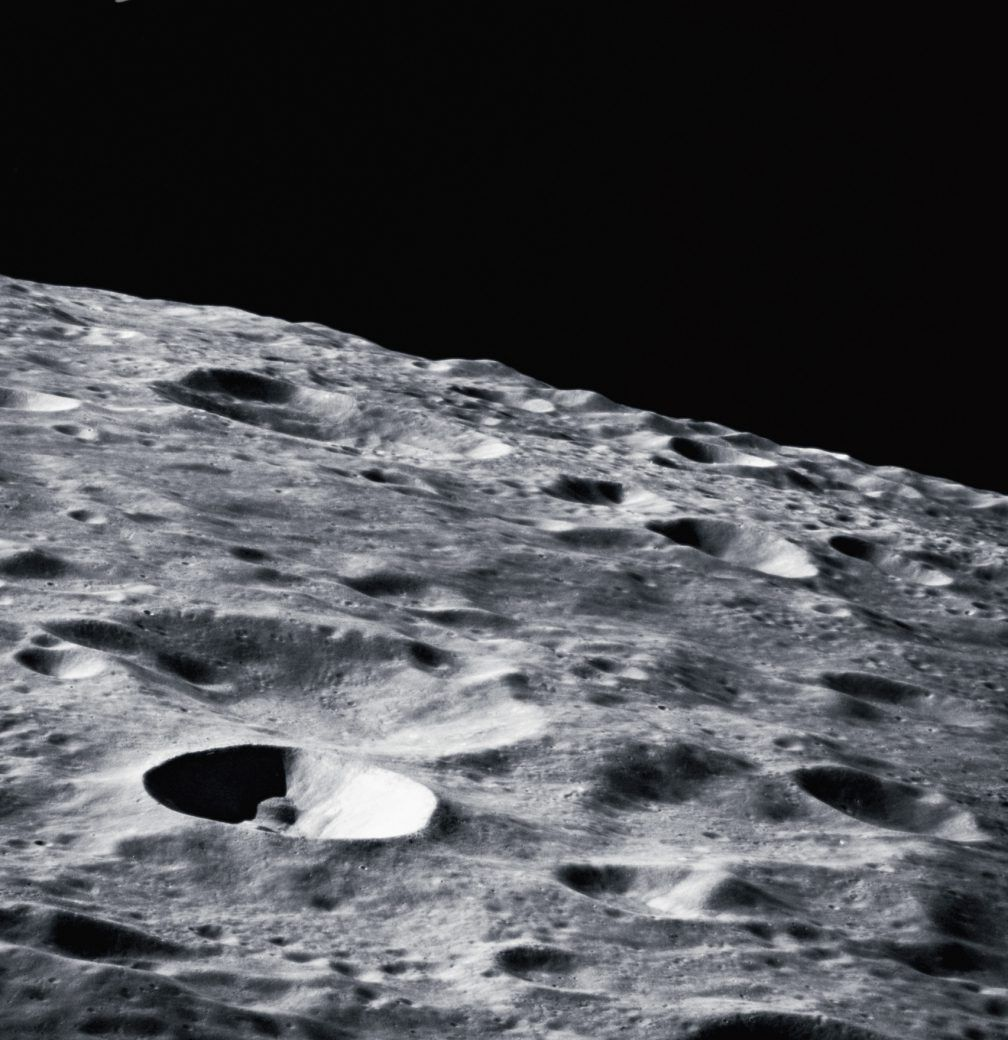crater: (98, 718, 550, 916), (435, 915, 650, 1031)
